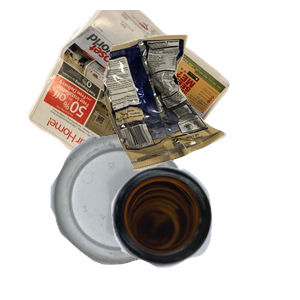glass: (109, 164, 300, 300)
paper: (23, 10, 245, 190)
plastic: (48, 132, 224, 300)
trash: (101, 32, 300, 195)
